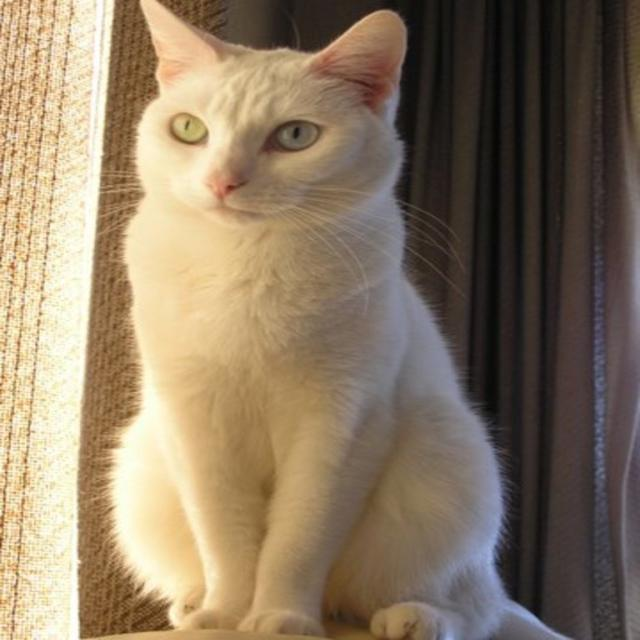Cat: (95, 0, 575, 639)
